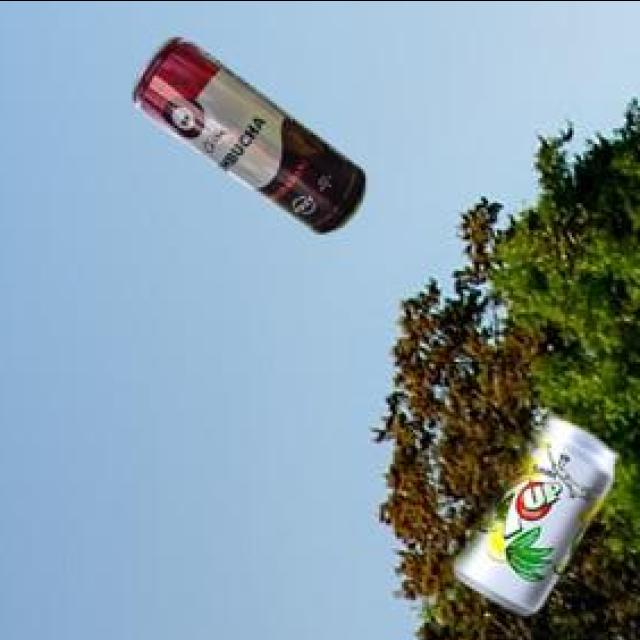logam: (128, 40, 362, 235), (450, 419, 614, 618)
